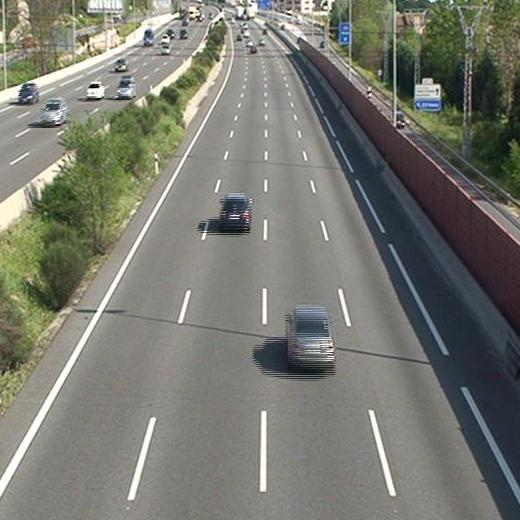car: (287, 307, 336, 369), (220, 194, 253, 229)
